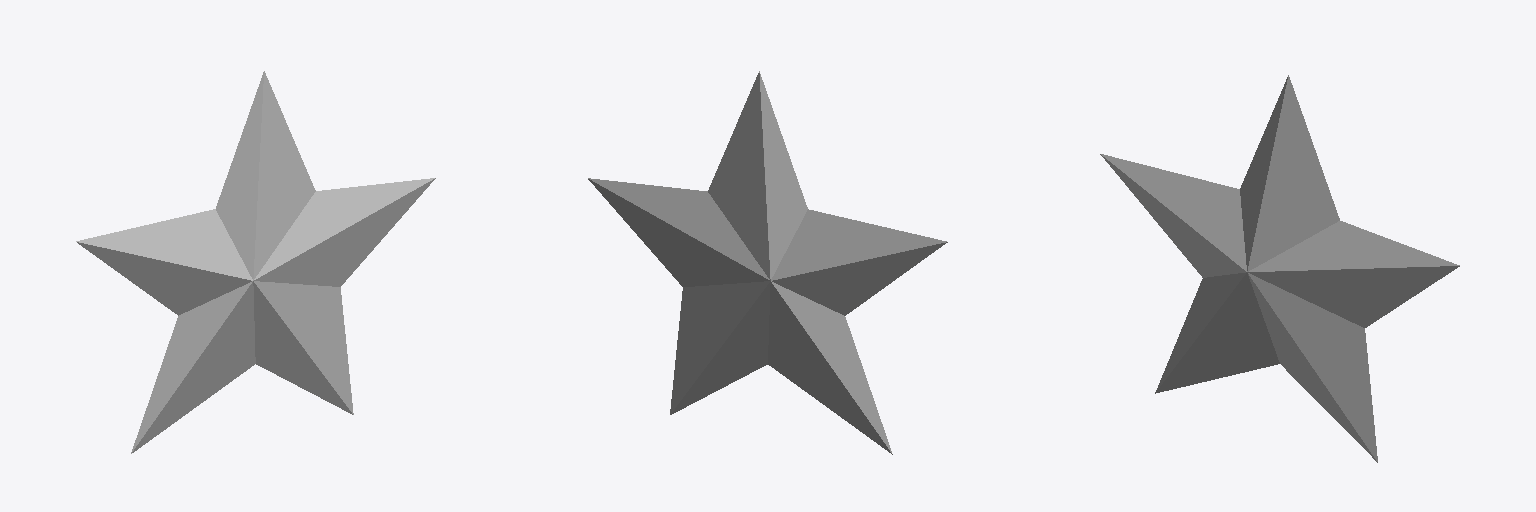
The model's file is star.obj.
The picture shows the model from 3 angles: view 1: azimuth 30°, elevation 25°; view 2: azimuth 150°, elevation 25°; view 3: azimuth 330°, elevation 25°; orthographic projection.
Visible parts, largest first — view 1: star; view 2: star; view 3: star.
Boxes of the visible parts, box(x1,y1,x2,y2) form: star: box(76, 71, 435, 453); star: box(588, 71, 947, 454); star: box(1100, 75, 1459, 462).
Bounding box in the file's own units: 3.08 × 2.99 × 0.4463.